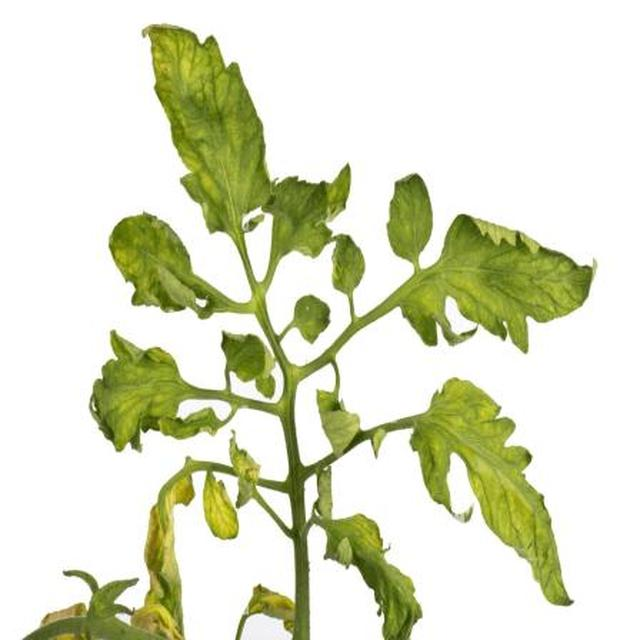Mosaic Virus Leaf: (53, 105, 640, 640)
